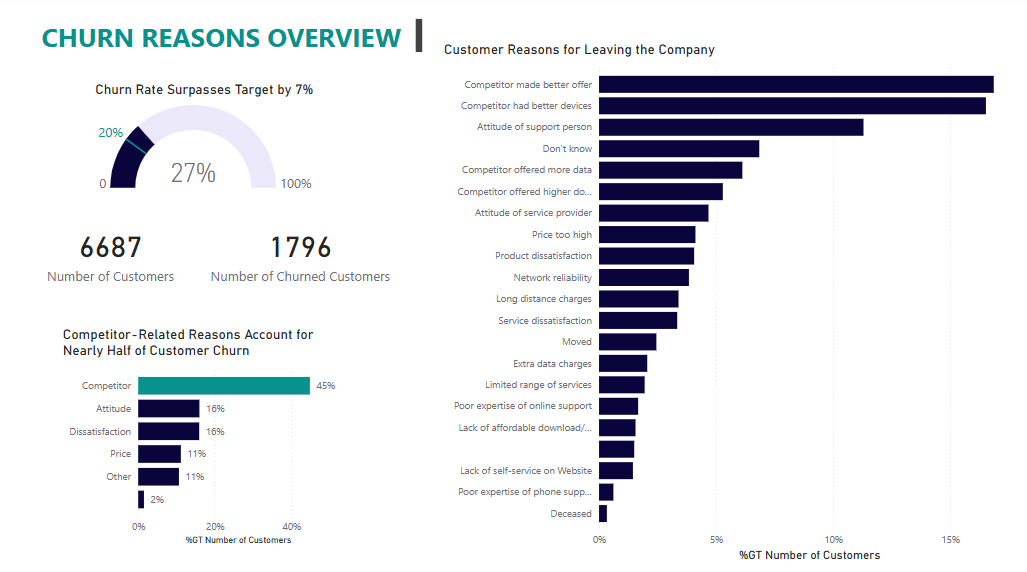

What the dashboard file says about the page in this screenshot:
{"tool":"powerbi","page":{"name":"Churn Reasons","canvas":[1280,720],"ordinal":0},"visuals":[{"type":"clusteredBarChart","title":"Competitor-Related Reasons Account for Nearly Half of Customer Churn","fields":{"Category":["Databel - Data.Churn Category"],"Y":["Databel - Data.Number of Customers"]},"box":[78.3,408.3,361.7,275],"z":0},{"type":"clusteredBarChart","title":"Customer Reasons for Leaving the Company","fields":{"Y":["Databel - Data.Number of Customers"],"Category":["Databel - Data.Churn Reason"]},"box":[548.6,57.1,731.4,645.7],"z":1000},{"type":"card","fields":{"Values":["Databel - Data.Number of Customers"]},"box":[51.7,253.3,180,126.7],"z":2000},{"type":"card","fields":{"Values":["Databel - Data.Number of Churned Customers"]},"box":[248.3,253.3,256.7,126.7],"z":3000},{"type":"gauge","title":"Churn Rate Surpasses Target by 7%","fields":{"Y":["Databel - Data.Churn Rate"],"MinValue":["Databel - Data.Min Churn Rate"],"TargetValue":["Databel - Data.Target Churn Rate"]},"box":[118.3,106.7,281.7,146.7],"z":4000},{"type":"textbox","box":[51.7,25,478.3,51.7],"z":5000}]}

Visuals, with their boxes in screenshot pixels (x1, y1, x2, y2), scaled from the page's 1280x720 canvas onto the 1027x572 screenshot:
"Competitor-Related Reasons Account for Nearly Half of Customer Churn" clusteredBarChart: <bbox>63, 324, 353, 543</bbox>
"Customer Reasons for Leaving the Company" clusteredBarChart: <bbox>440, 45, 1026, 558</bbox>
card - Databel - Data.Number of Customers: <bbox>41, 201, 186, 302</bbox>
card - Databel - Data.Number of Churned Customers: <bbox>199, 201, 405, 302</bbox>
"Churn Rate Surpasses Target by 7%" gauge: <bbox>95, 85, 321, 201</bbox>
textbox: <bbox>41, 20, 425, 61</bbox>
